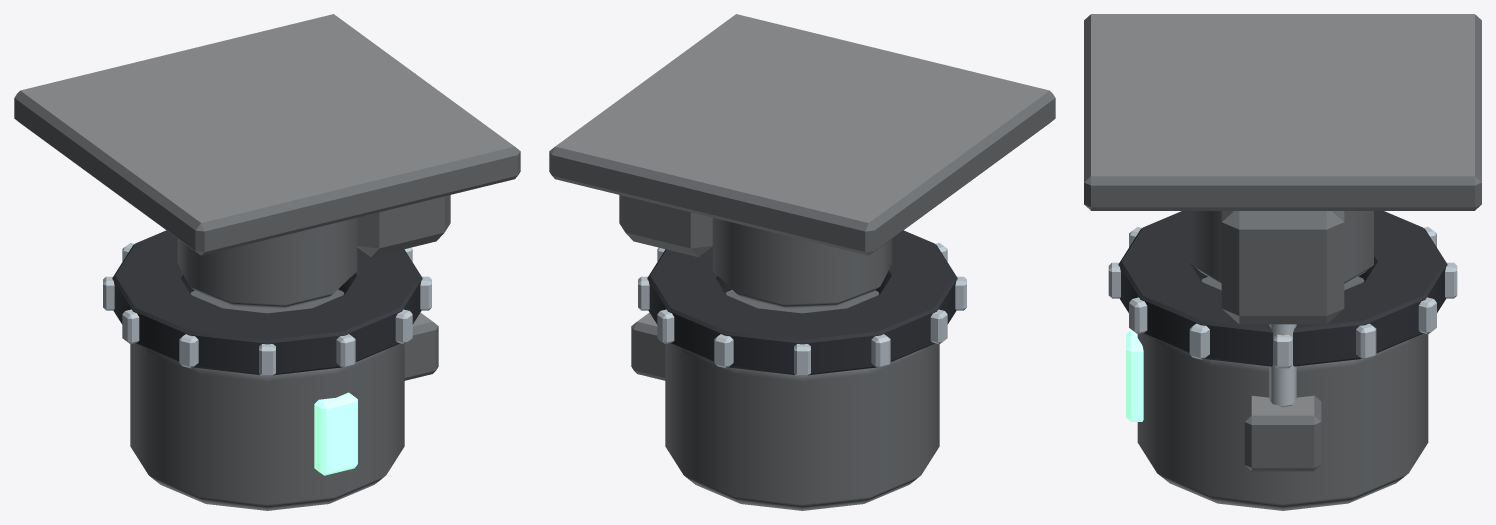
The model's file is R4X_IndependentSteering_LOD1.glb.
3 renders of one model, left to right at view 1: azimuth 30°, elevation 25°; view 2: azimuth 150°, elevation 25°; view 3: azimuth 270°, elevation 25°, orthographic. The views are drawn at different scales.
Parts seen in each view (by area): view 1: R4X_IndependentSteering_LOD1; view 2: R4X_IndependentSteering_LOD1; view 3: R4X_IndependentSteering_LOD1.
Boxes of the visible parts, <box> form: R4X_IndependentSteering_LOD1: <box>14,14,520,510</box>; R4X_IndependentSteering_LOD1: <box>549,14,1055,510</box>; R4X_IndependentSteering_LOD1: <box>1084,14,1481,510</box>.
Size of the model in its own units: 0.52 by 0.52 by 0.52.
